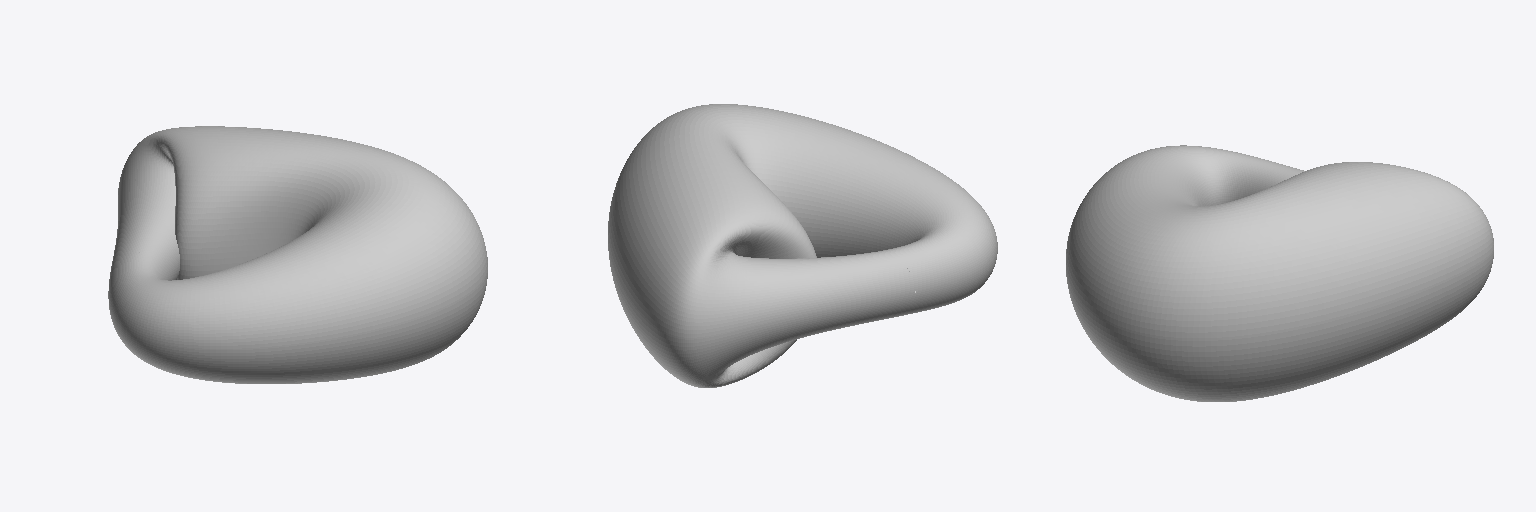
The model's file is klein.obj.
The picture shows the model from 3 angles: view 1: azimuth 30°, elevation 25°; view 2: azimuth 150°, elevation 25°; view 3: azimuth 270°, elevation 25°; orthographic projection.
Parts seen in each view (by area): view 1: XYZ_Function.005; view 2: XYZ_Function.005; view 3: XYZ_Function.005.
Boxes of the visible parts, <box> form: XYZ_Function.005: <box>108,126,487,383</box>; XYZ_Function.005: <box>608,104,997,387</box>; XYZ_Function.005: <box>1066,145,1493,401</box>.
Bounding box in the file's own units: 11.43 × 6 × 12.16.